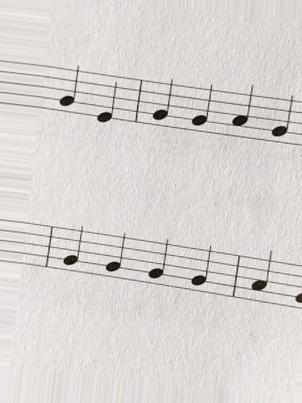note: (227, 80, 257, 142), (246, 246, 276, 307), (267, 91, 296, 149), (148, 75, 178, 131), (94, 73, 122, 129), (143, 235, 171, 290), (58, 223, 86, 277), (54, 62, 82, 115), (189, 82, 216, 134), (102, 228, 127, 282), (189, 245, 215, 296)
